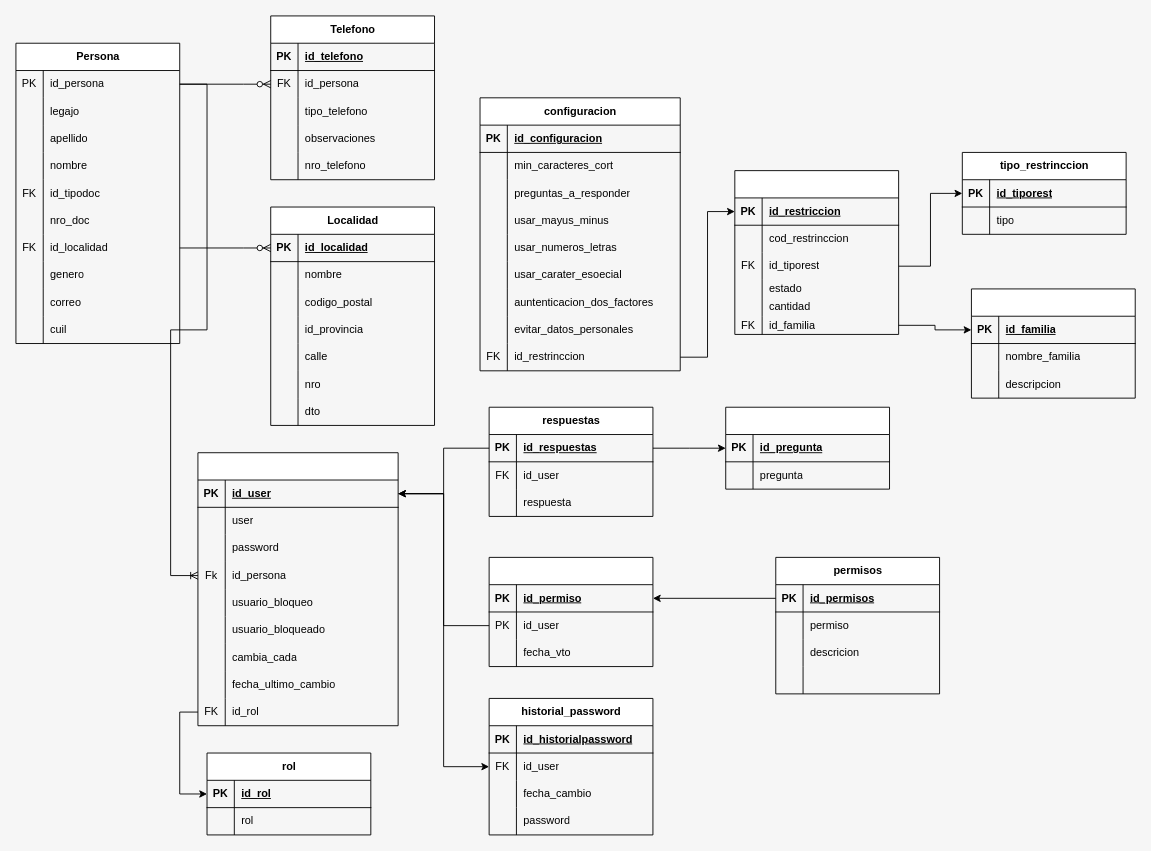
This 1151x851 diagram has some shape labels left out. Each missing label, with the box of its shape:
Familia_restrinccion: (971, 288, 1135, 398)
permiso_usuarios: (488, 556, 653, 667)
preguntas: (725, 406, 890, 489)
restrincciones: (734, 170, 899, 334)
Usuarios: (197, 452, 398, 726)
